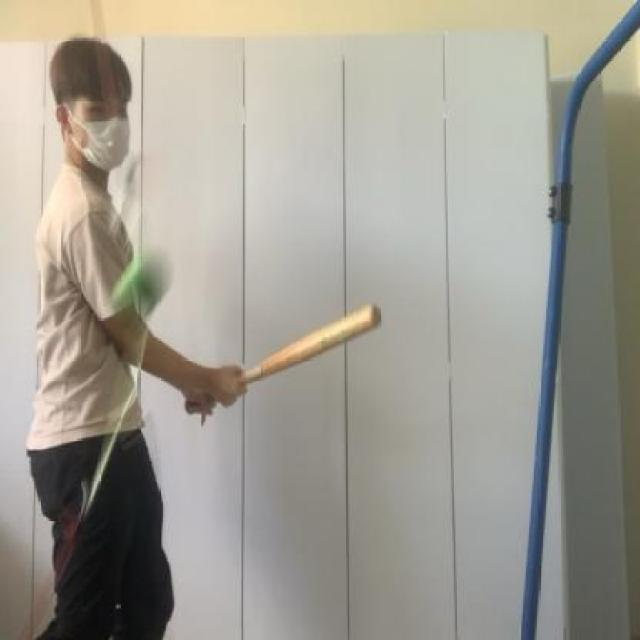baseball: (112, 243, 168, 332)
